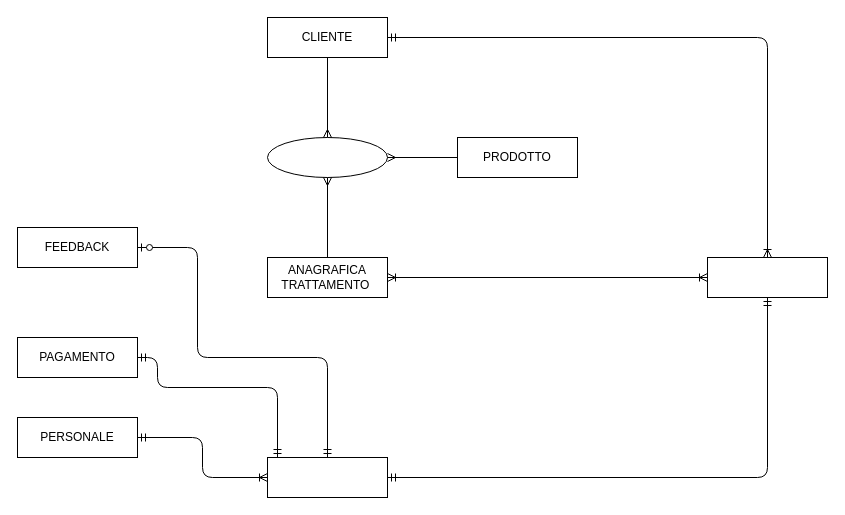
Some shapes in this 845 by 515 pixel diagram are drawn without their labels. Each missing label, with the box of its shape:
PRENOTAZIONE: (706, 256, 828, 298)
SCHEDA CLIENTE: (266, 136, 388, 178)
TRATTAMENTO: (266, 456, 388, 498)
